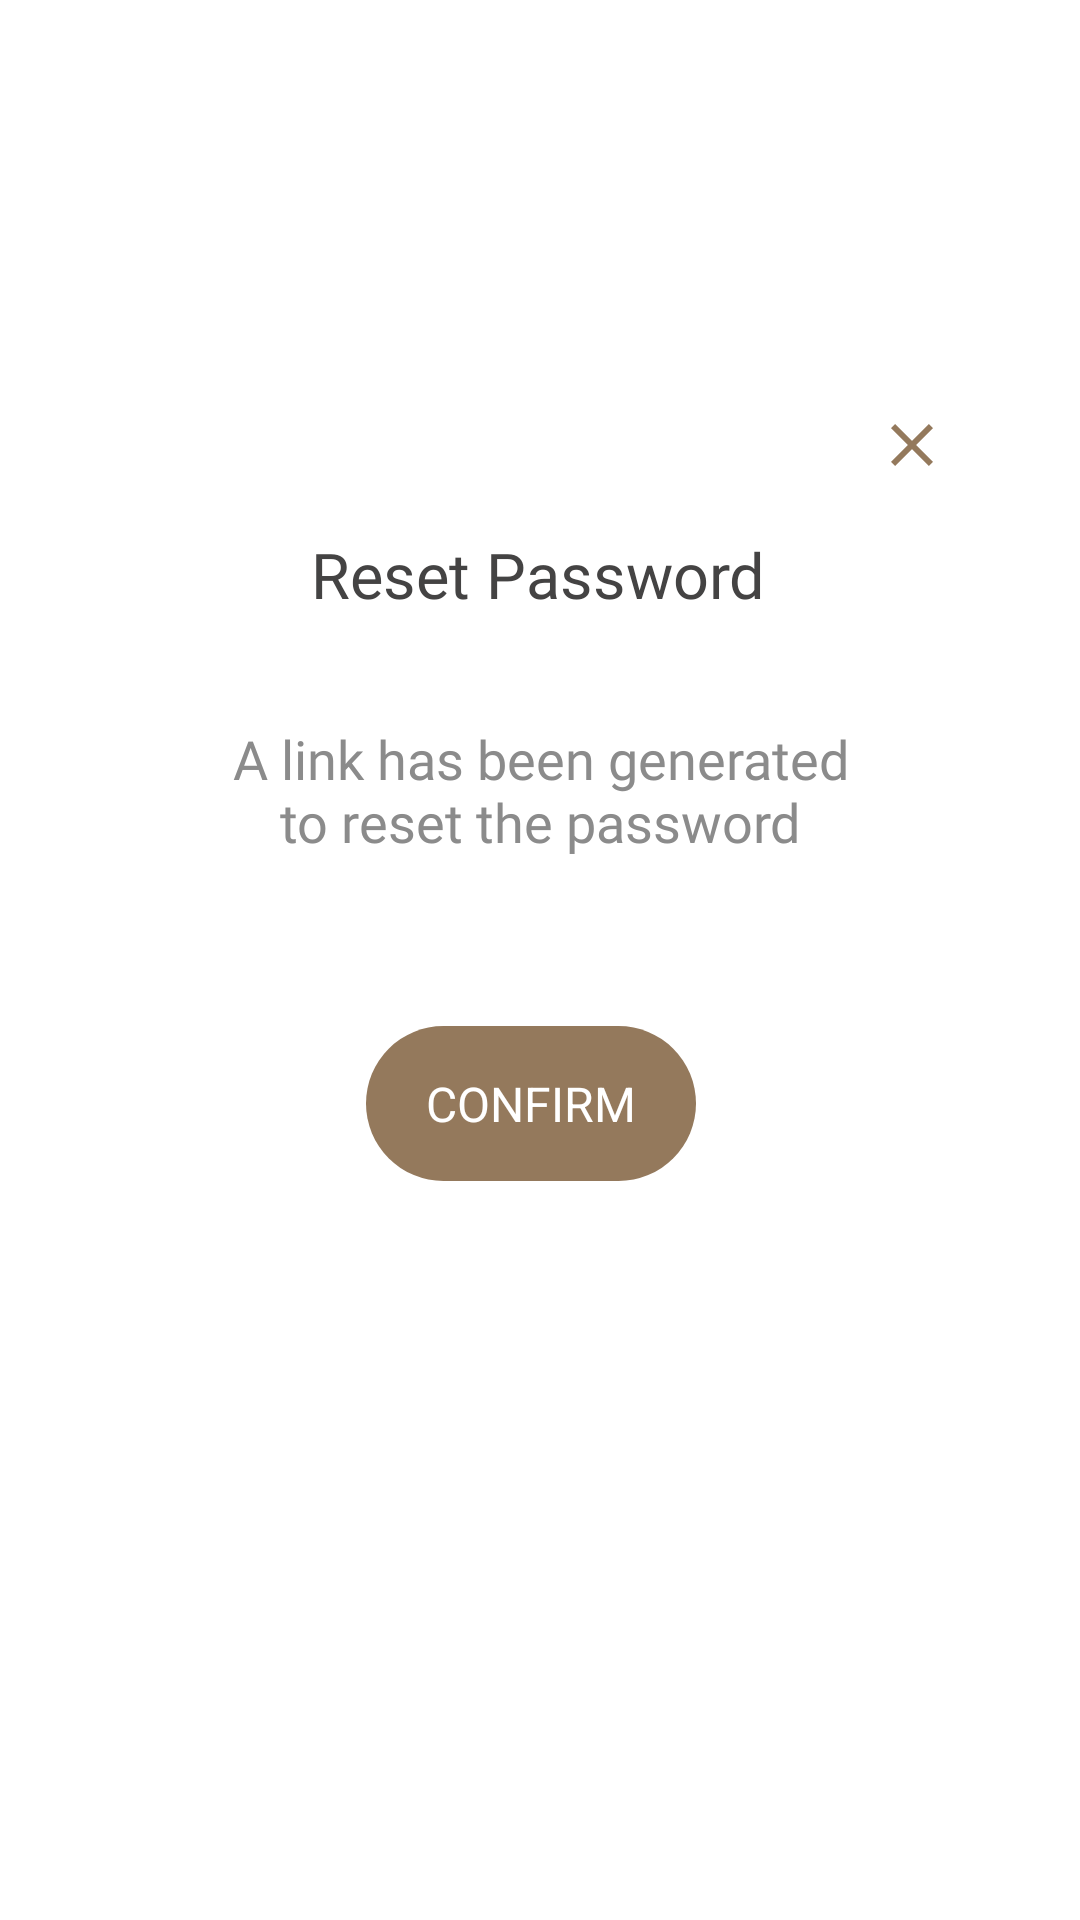

Screen size 1080px x 1920px. Icon name, then its box in pixels as [x1, y1, x2, y2]:
cross symbol: [891, 424, 933, 466]
